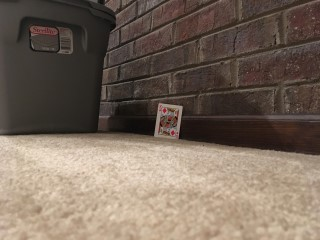KingOfDiamonds: (153, 103, 183, 140)
